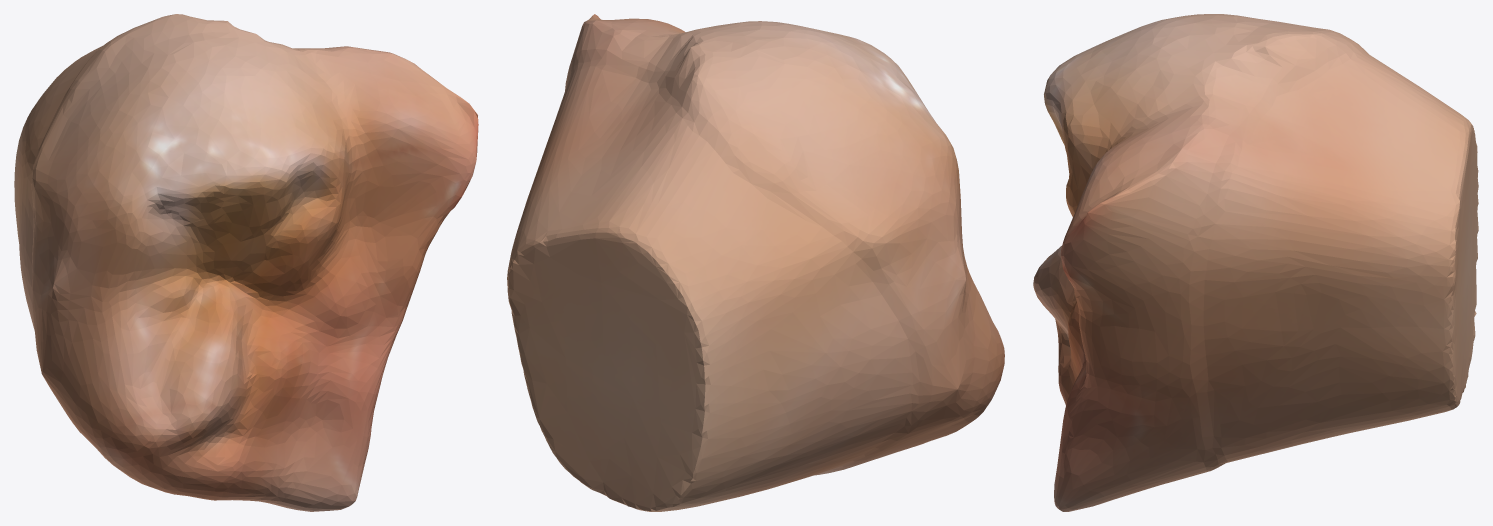
Rendered from local_t47_7780.obj.
3 views of the same model, side by side, from view 1: azimuth 30°, elevation 25°; view 2: azimuth 150°, elevation 25°; view 3: azimuth 270°, elevation 25° (orthographic). The views are drawn at different scales.
Size of the model in its own units: 9.54 by 10.23 by 8.99.
Materials: 1 (1 with a texture image).
